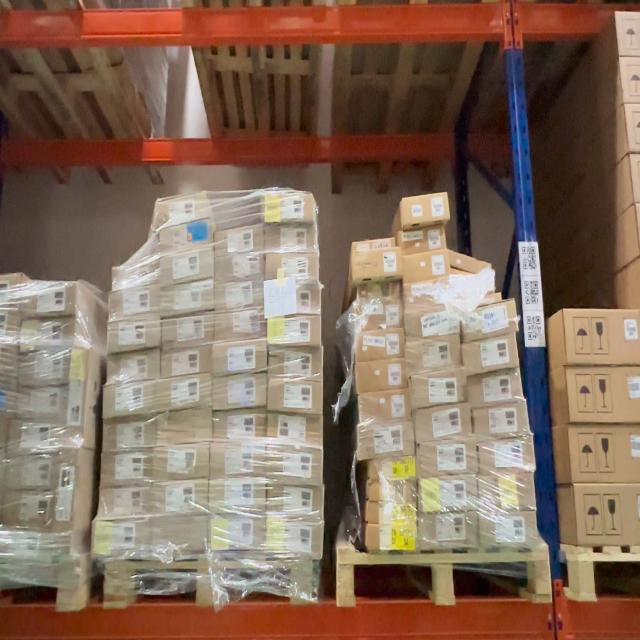box: (463, 299, 518, 343), (480, 471, 537, 509), (474, 402, 529, 441), (92, 521, 146, 560), (463, 335, 517, 374), (480, 435, 534, 474), (422, 510, 476, 547), (159, 219, 210, 258), (161, 248, 212, 287), (481, 514, 536, 550), (468, 370, 521, 406), (268, 520, 322, 554), (267, 487, 324, 519), (269, 448, 321, 483), (156, 448, 209, 481), (358, 426, 414, 456), (270, 347, 323, 378), (157, 192, 205, 226), (152, 521, 206, 551), (152, 486, 207, 515), (421, 447, 476, 476), (420, 481, 478, 508), (212, 517, 263, 547), (268, 418, 324, 445), (211, 448, 264, 476), (211, 482, 264, 510), (102, 454, 151, 484), (269, 382, 321, 410), (217, 345, 265, 375), (402, 224, 447, 256), (264, 191, 311, 221), (158, 413, 212, 439), (215, 378, 265, 406), (104, 422, 153, 450), (272, 287, 319, 316), (99, 486, 147, 514), (408, 343, 459, 369), (271, 318, 320, 345), (266, 254, 316, 280), (356, 365, 406, 391), (406, 312, 458, 337), (414, 379, 466, 404), (216, 413, 264, 439), (417, 414, 469, 438), (359, 395, 408, 420), (160, 288, 213, 311), (217, 253, 262, 280), (355, 250, 400, 277), (109, 324, 159, 348), (164, 380, 210, 406), (402, 197, 448, 223), (105, 356, 161, 377), (267, 224, 310, 251), (102, 387, 154, 409), (406, 286, 454, 309), (110, 293, 159, 315), (163, 320, 212, 342), (215, 228, 264, 250), (162, 351, 212, 372), (216, 285, 261, 308), (368, 528, 415, 550), (356, 336, 402, 358), (406, 256, 448, 280), (217, 314, 263, 335), (367, 504, 415, 524), (356, 312, 401, 333), (369, 482, 415, 502), (370, 461, 416, 478), (358, 288, 398, 307), (268, 277, 270, 282)
